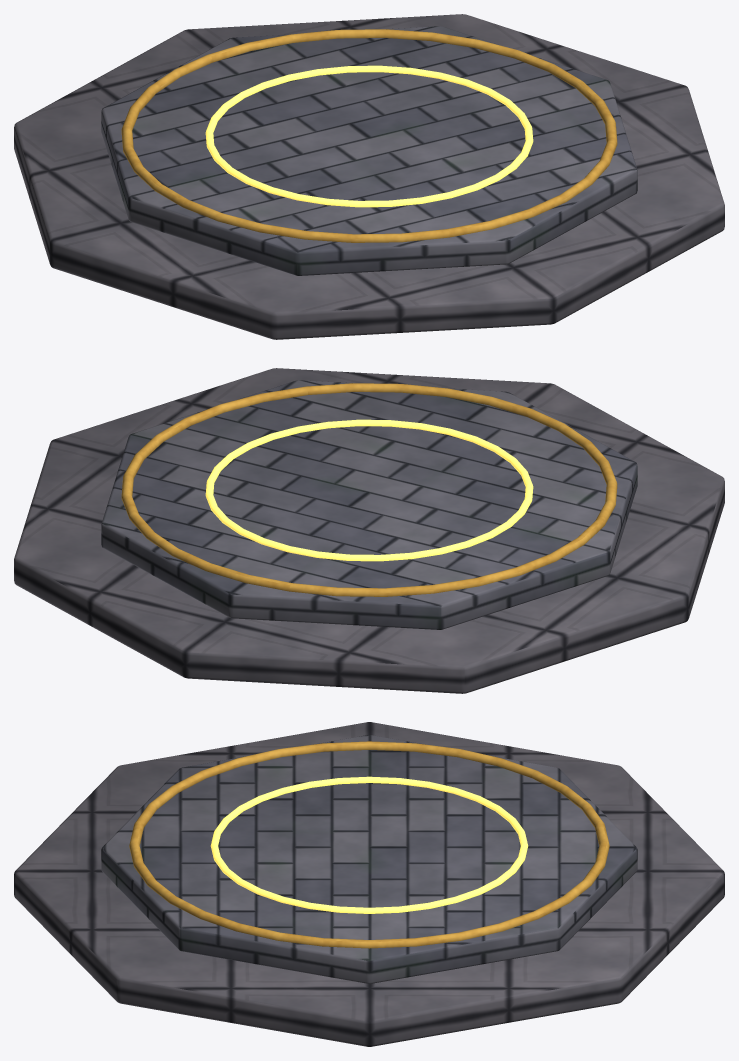
Rendered from boss_dais.glb.
3 renders of one model, top to bottom at view 1: azimuth 30°, elevation 25°; view 2: azimuth 150°, elevation 25°; view 3: azimuth 270°, elevation 25°, orthographic. The views are drawn at different scales.
Parts seen in each view (by area): view 1: DaisStep2, DaisStep1, DaisRuneOuter, DaisRuneInner; view 2: DaisStep2, DaisStep1, DaisRuneOuter, DaisRuneInner; view 3: DaisStep2, DaisStep1, DaisRuneOuter, DaisRuneInner.
Part boxes in pixels (left/top/right/bottom): DaisStep2: left=101, top=26, right=637, bottom=275; DaisStep1: left=14, top=14, right=724, bottom=339; DaisRuneOuter: left=121, top=29, right=617, bottom=242; DaisRuneInner: left=205, top=65, right=533, bottom=207; DaisStep2: left=101, top=380, right=637, bottom=629; DaisStep1: left=14, top=368, right=724, bottom=693; DaisRuneOuter: left=121, top=383, right=617, bottom=596; DaisRuneInner: left=205, top=419, right=533, bottom=561; DaisStep2: left=101, top=735, right=637, bottom=983; DaisStep1: left=14, top=722, right=724, bottom=1046; DaisRuneOuter: left=129, top=741, right=609, bottom=948; DaisRuneInner: left=210, top=776, right=528, bottom=913.
Size of the model in its own units: 5.69 by 0.502 by 5.69.
4 materials, 3 textured.
